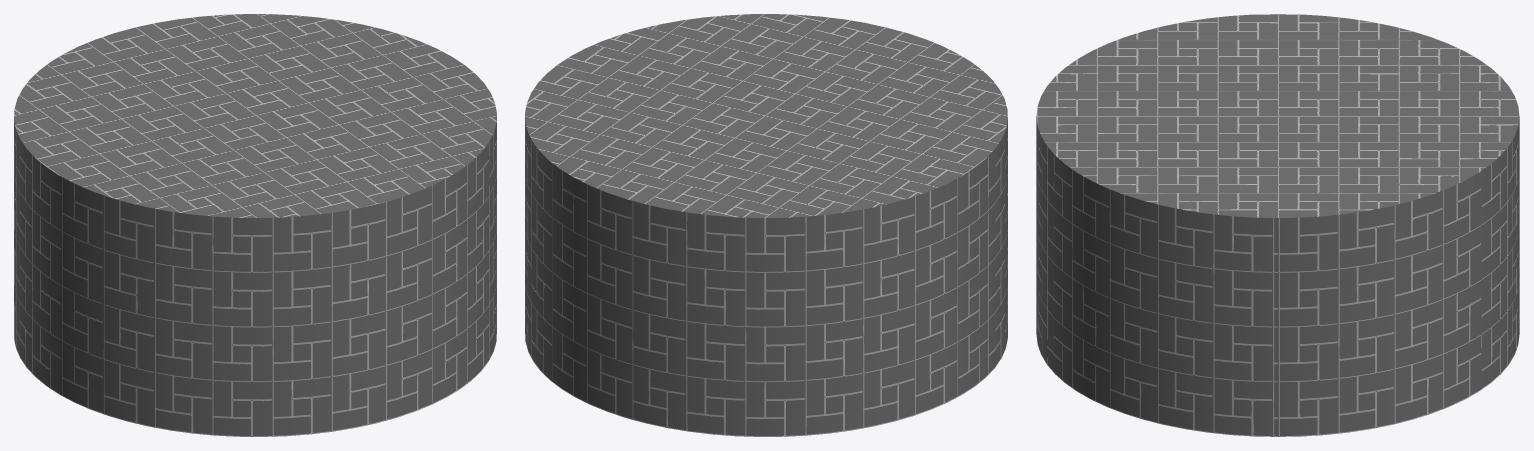
File: scenario_shield.dae
3 renders of one model, left to right at view 1: azimuth 30°, elevation 25°; view 2: azimuth 150°, elevation 25°; view 3: azimuth 270°, elevation 25°, orthographic.
Parts seen in each view (by area): view 1: group_0 (×2); view 2: group_0 (×2); view 3: group_0 (×2).
Boxes of the visible parts, left/top/right/bottom form: group_0 (×2): left=14, top=14, right=496, bottom=436; group_0 (×2): left=525, top=14, right=1007, bottom=436; group_0 (×2): left=1036, top=14, right=1519, bottom=436.
Size of the model in its own units: 78.74 by 78.74 by 39.37.
